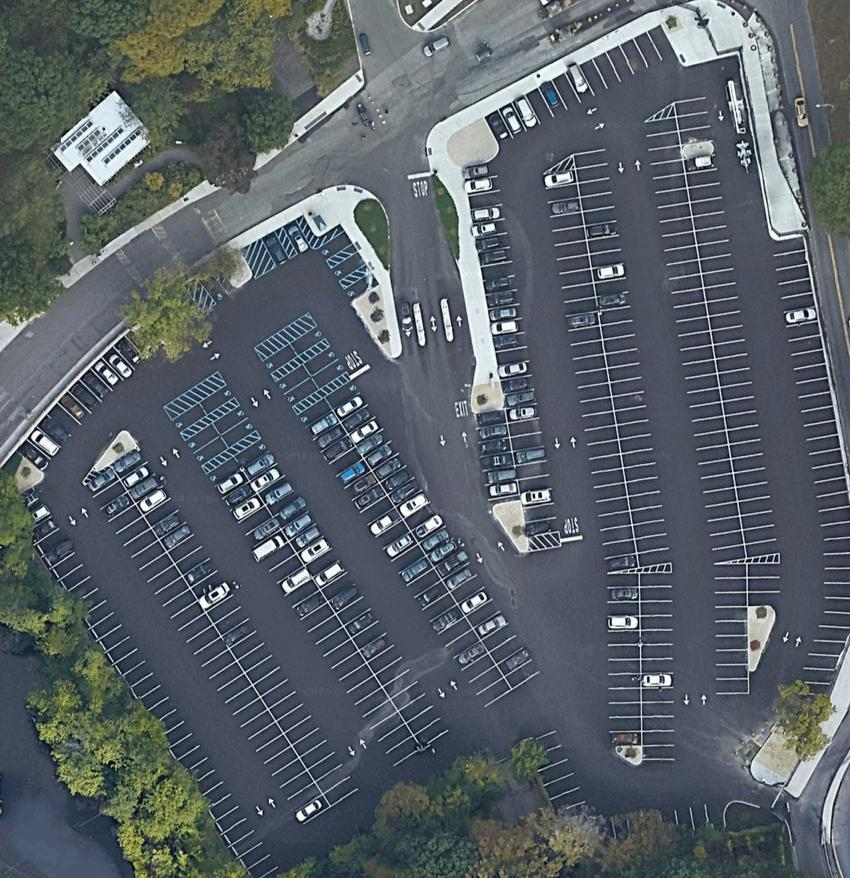parkingspot: (24, 490, 281, 877), (82, 466, 332, 827), (111, 447, 360, 808), (203, 454, 424, 769), (232, 436, 451, 751), (323, 378, 542, 691), (295, 397, 514, 710), (672, 96, 782, 561), (640, 115, 748, 565), (571, 147, 673, 569), (540, 168, 641, 575), (767, 234, 850, 697), (461, 160, 561, 540), (483, 21, 680, 149), (15, 333, 148, 475), (638, 571, 677, 761), (605, 571, 643, 749), (471, 407, 522, 509), (711, 563, 750, 695), (535, 729, 587, 813), (659, 799, 727, 833), (211, 403, 259, 450), (183, 421, 230, 469), (303, 344, 351, 390), (273, 363, 321, 409), (746, 563, 781, 608), (313, 229, 355, 263), (259, 341, 299, 376), (197, 381, 237, 416), (260, 230, 294, 271), (328, 250, 367, 285), (289, 323, 327, 358), (281, 217, 313, 257), (342, 272, 381, 304), (198, 276, 231, 307)
